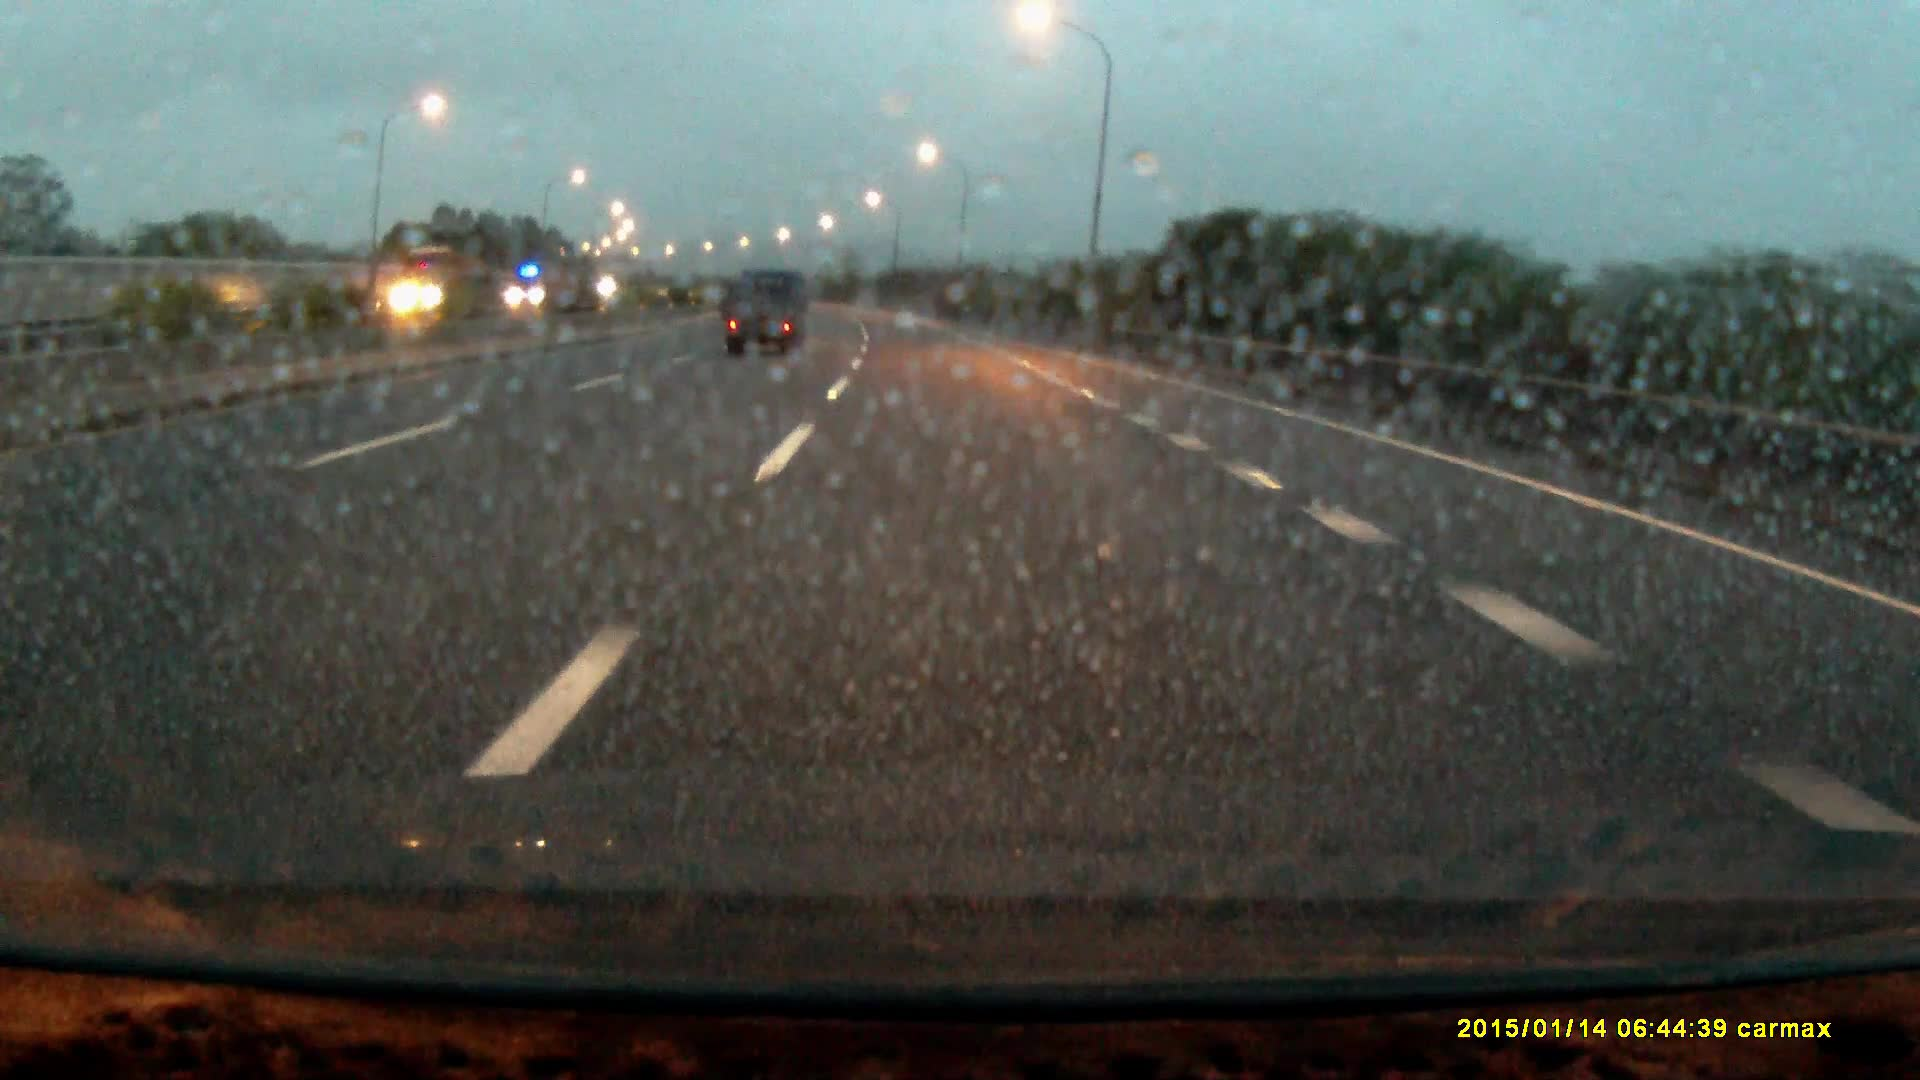vehicle: (727, 268, 806, 360), (397, 251, 496, 319), (506, 262, 575, 314)
